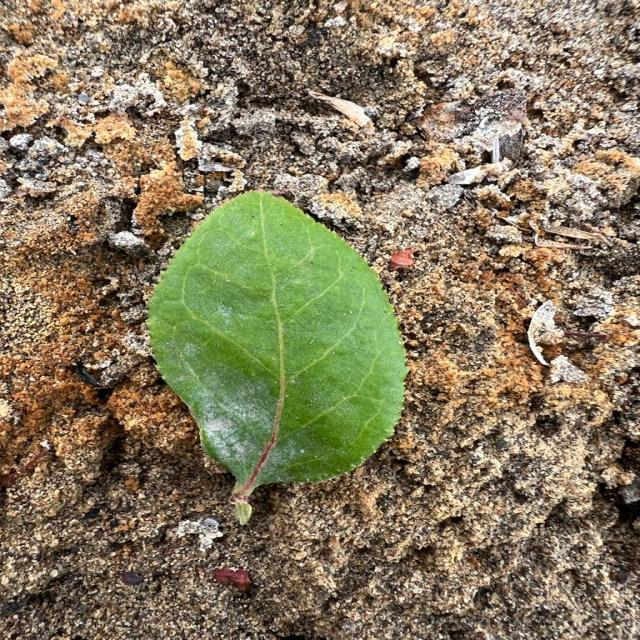Hojas con oidiosis: (144, 188, 409, 497)
